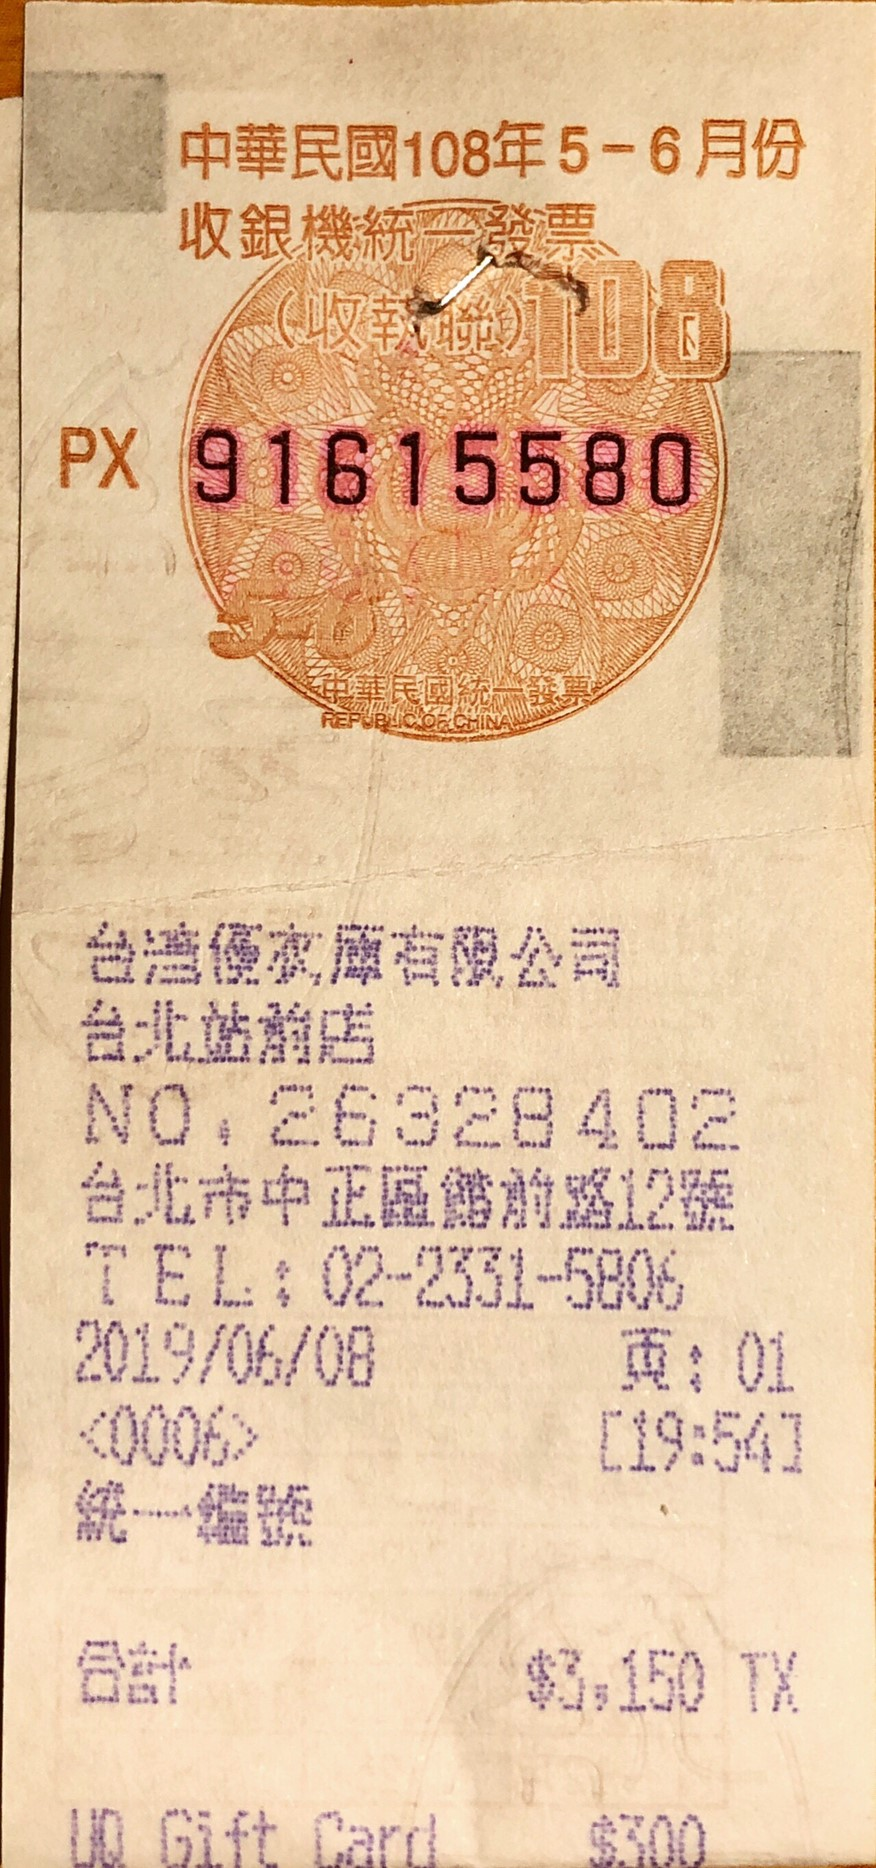Date_Old: (405, 116, 816, 189)
Number_Old: (184, 417, 706, 513)
